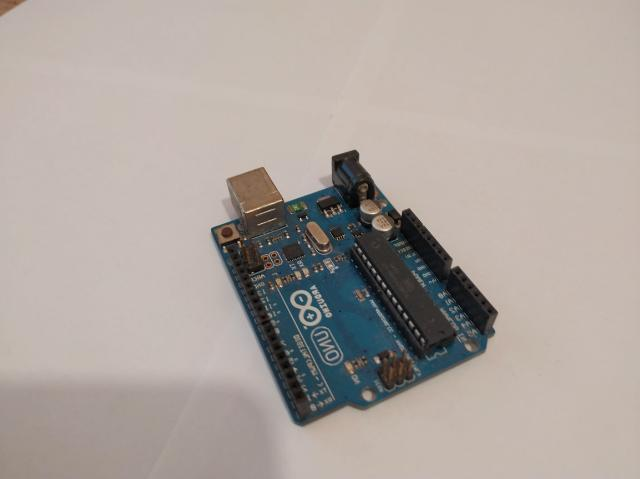arduino: (210, 149, 500, 423)
